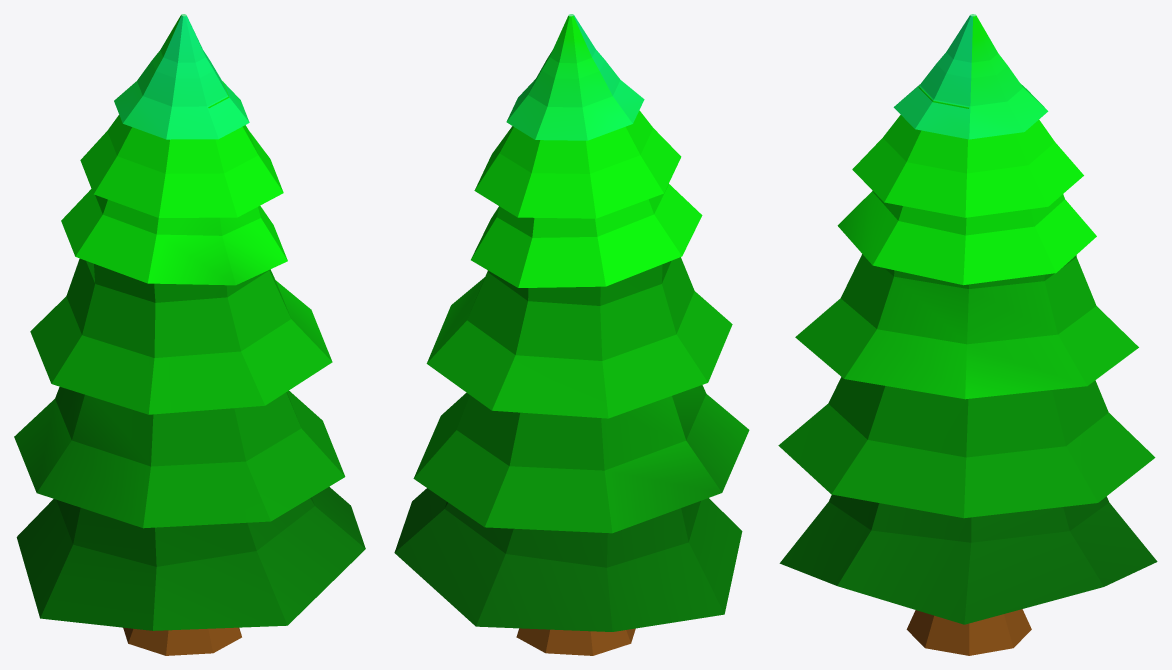
File: SM_Env_Pine.fbx
The picture shows the model from 3 angles, left to right: view 1: azimuth 30°, elevation 25°; view 2: azimuth 150°, elevation 25°; view 3: azimuth 270°, elevation 25°; orthographic projection.
Visible parts, largest first — view 1: SM_Env_Pine_04; view 2: SM_Env_Pine_04; view 3: SM_Env_Pine_04.
Boxes of the visible parts, bbox=[...] form: SM_Env_Pine_04: bbox=[14, 14, 365, 655]; SM_Env_Pine_04: bbox=[394, 14, 749, 655]; SM_Env_Pine_04: bbox=[778, 14, 1157, 655].
Size of the model in its own units: 830 by 1561 by 871.
